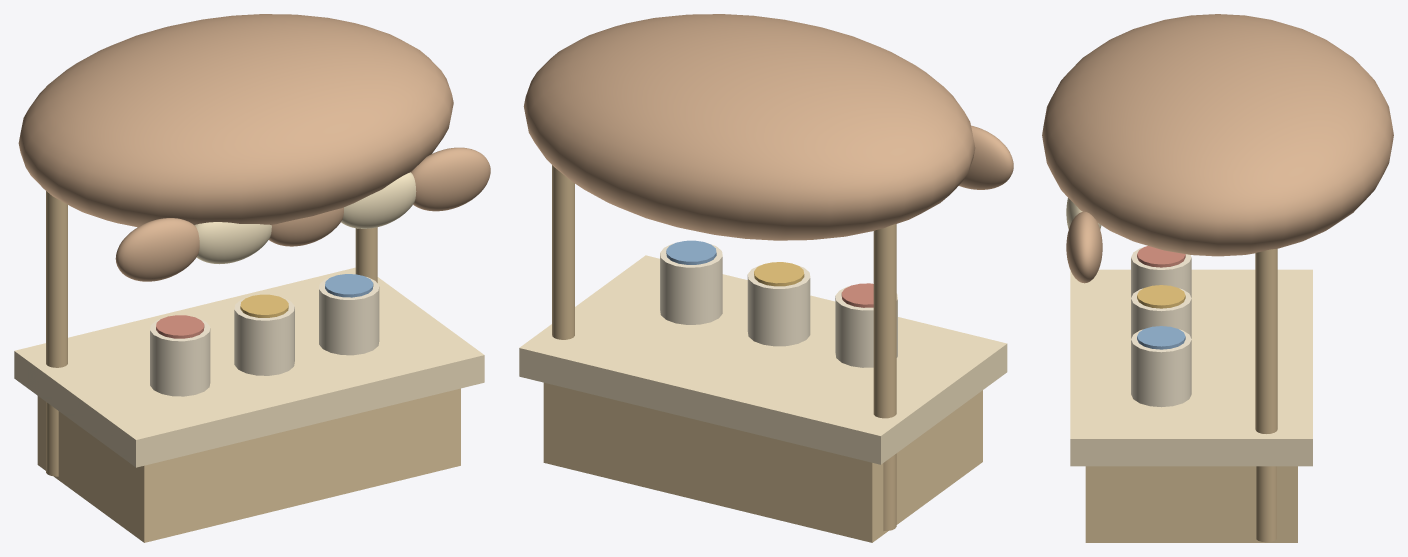
The model's file is fair-tea-time.glb.
3 views of the same model, side by side, from view 1: azimuth 30°, elevation 25°; view 2: azimuth 150°, elevation 25°; view 3: azimuth 270°, elevation 25° (orthographic). The views are drawn at different scales.
Parts seen in each view (by area): view 1: fair-tea-time; view 2: fair-tea-time; view 3: fair-tea-time.
Boxes of the visible parts, box(x1,y1,x2,y2) form: fair-tea-time: box(14, 14, 490, 542); fair-tea-time: box(519, 14, 1013, 542); fair-tea-time: box(1042, 14, 1393, 542).
Bounding box in the file's own units: 2.26 × 2.21 × 1.74.
